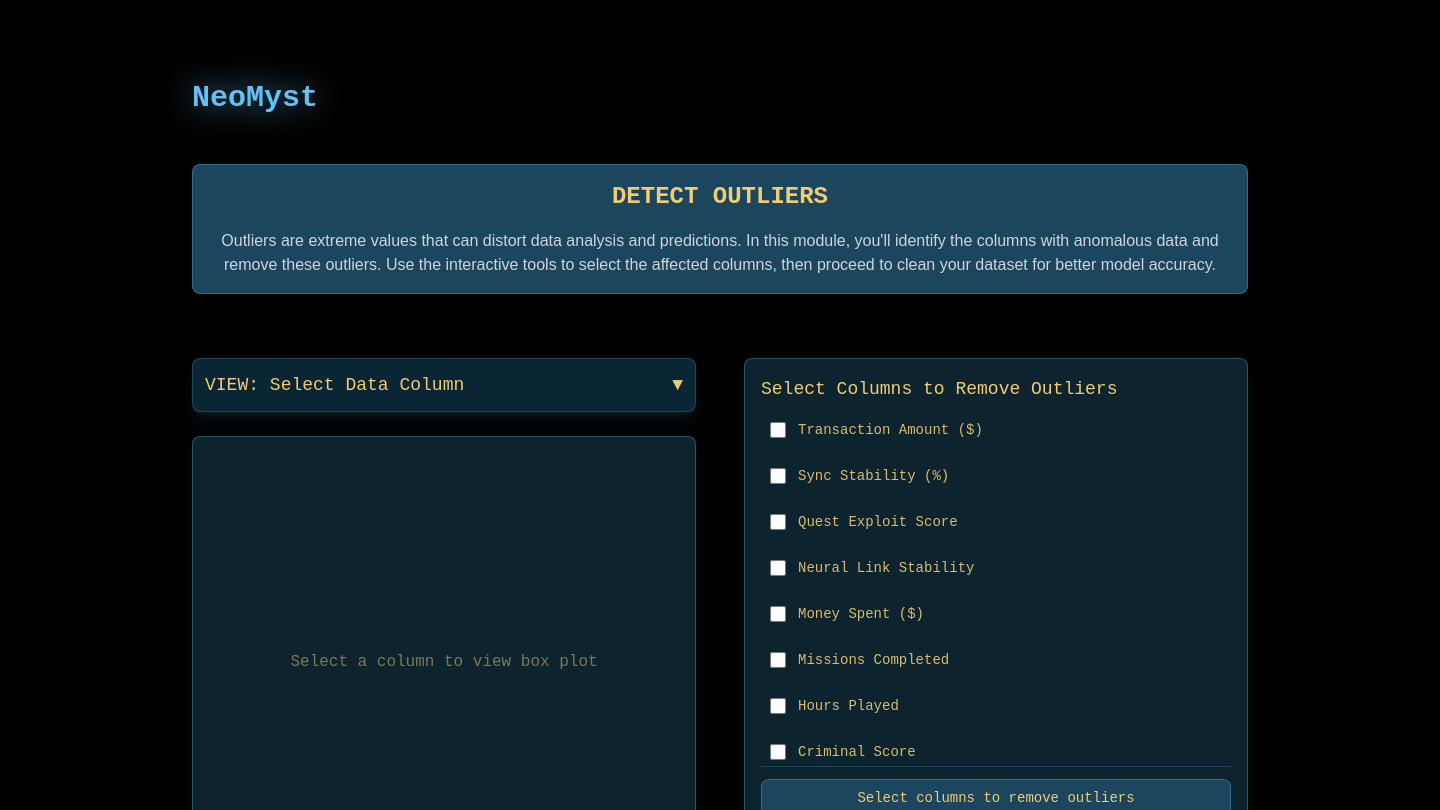
Scenario: OutlierDetection Component › shows error popup when trying to continue without removing outliers
# Select some columns
Click the checkbox next to "Quest Exploit Score" at (778, 522), box [770,514,786,530]
(page scrolled)
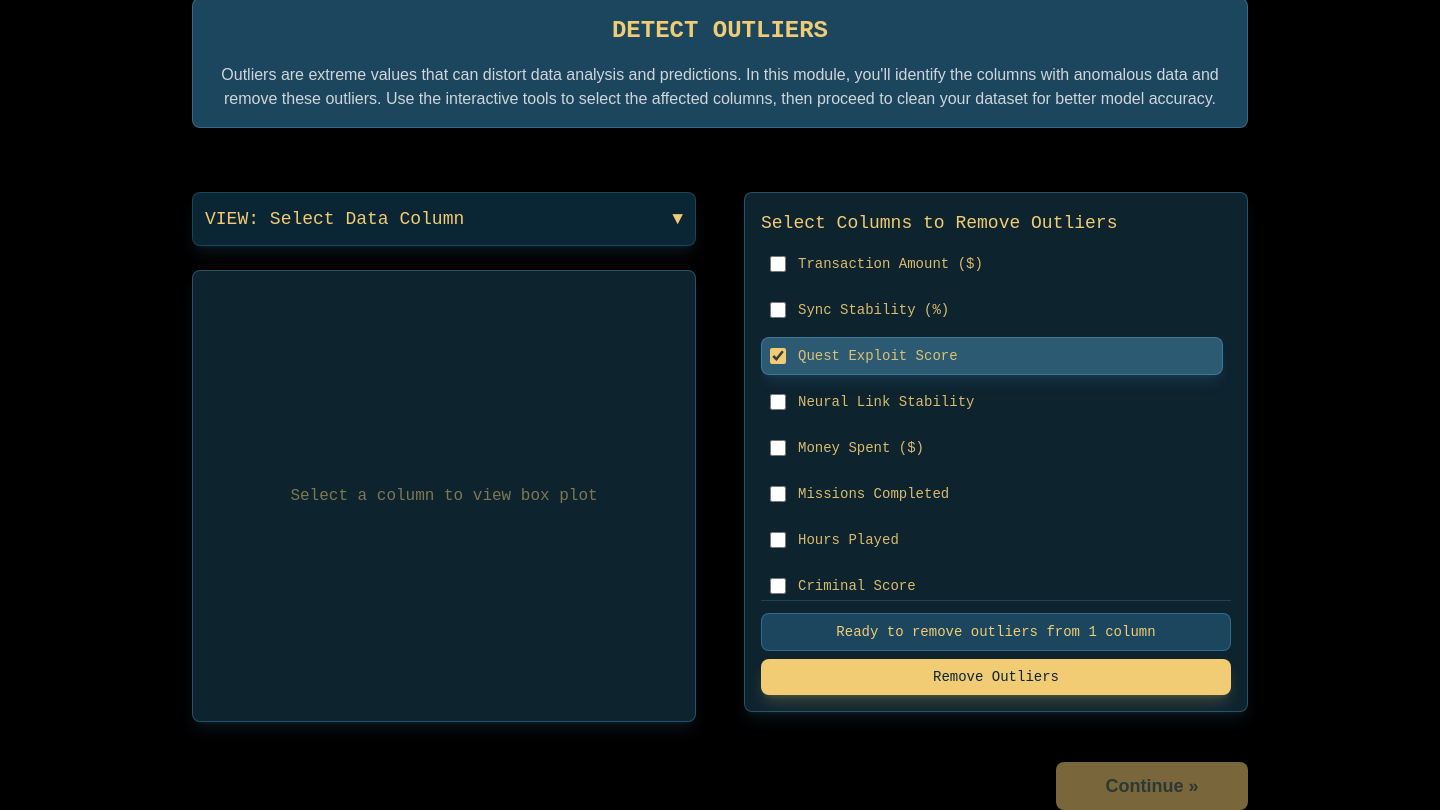
# Try to continue without removing outliers
Click the button "Continue »" at (1152, 786), box [1056,762,1248,809]
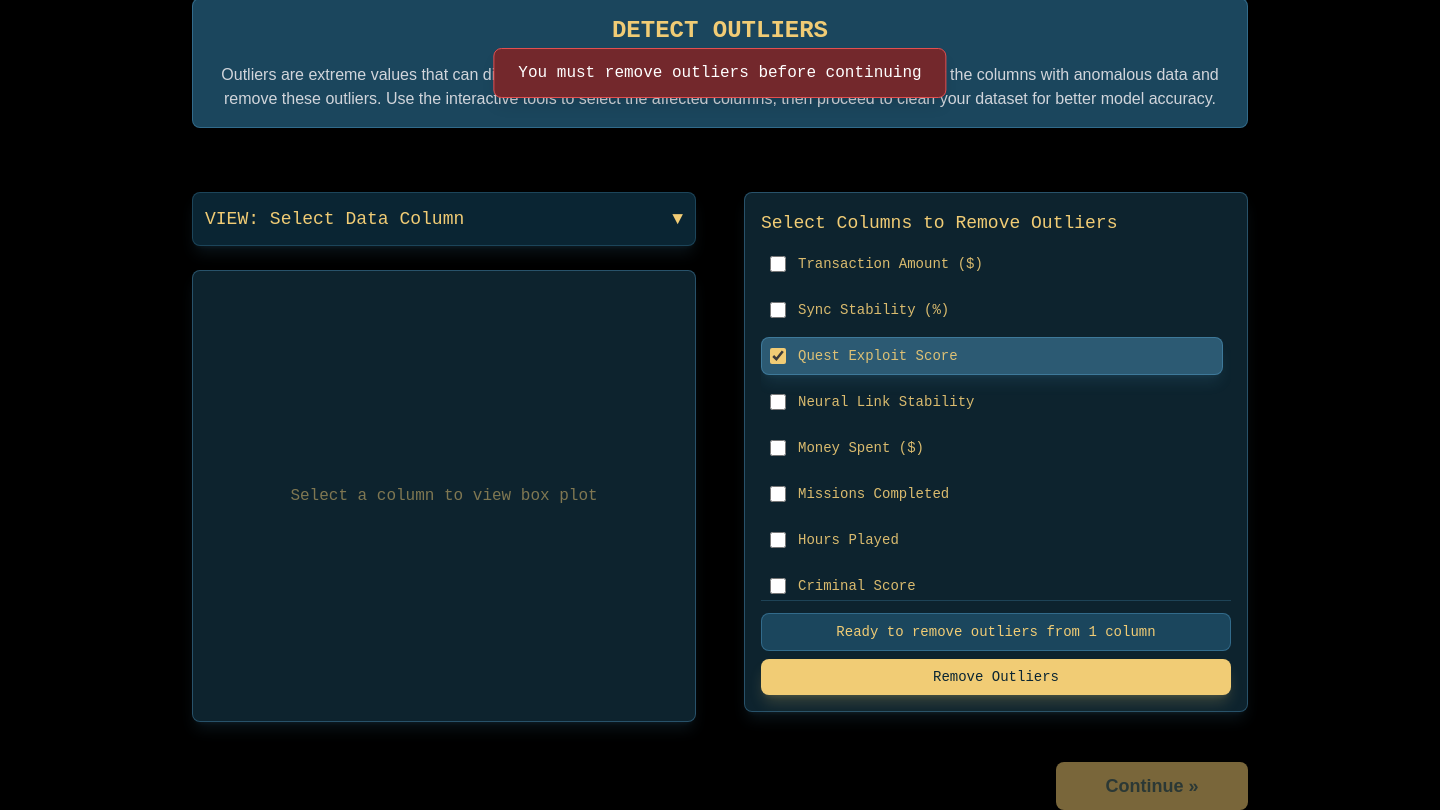
expect the text "You must remove outliers before continuing" is shown: met, box [518,61,922,85]
